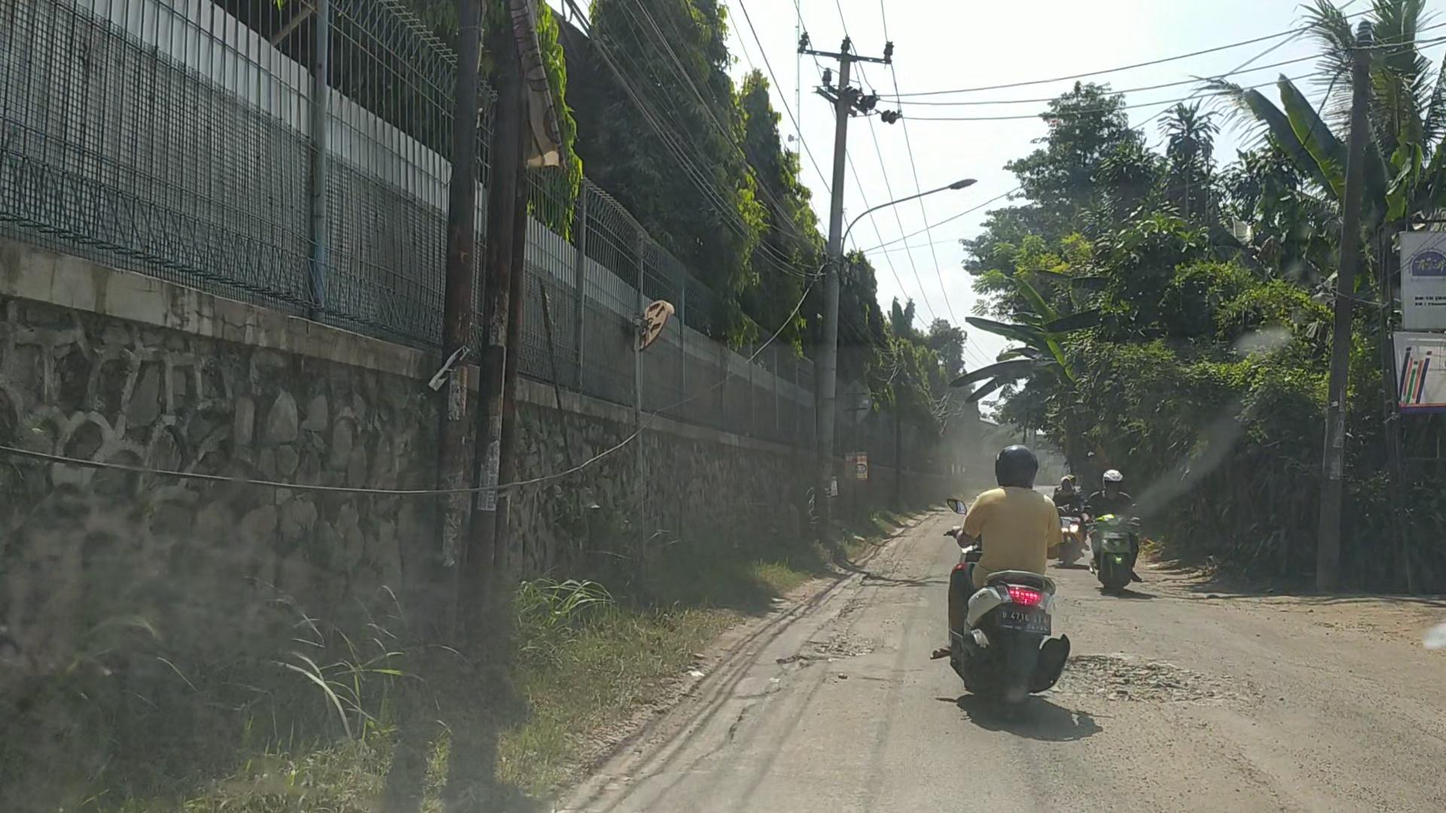pothole: (1055, 653, 1220, 703), (777, 628, 888, 677)
